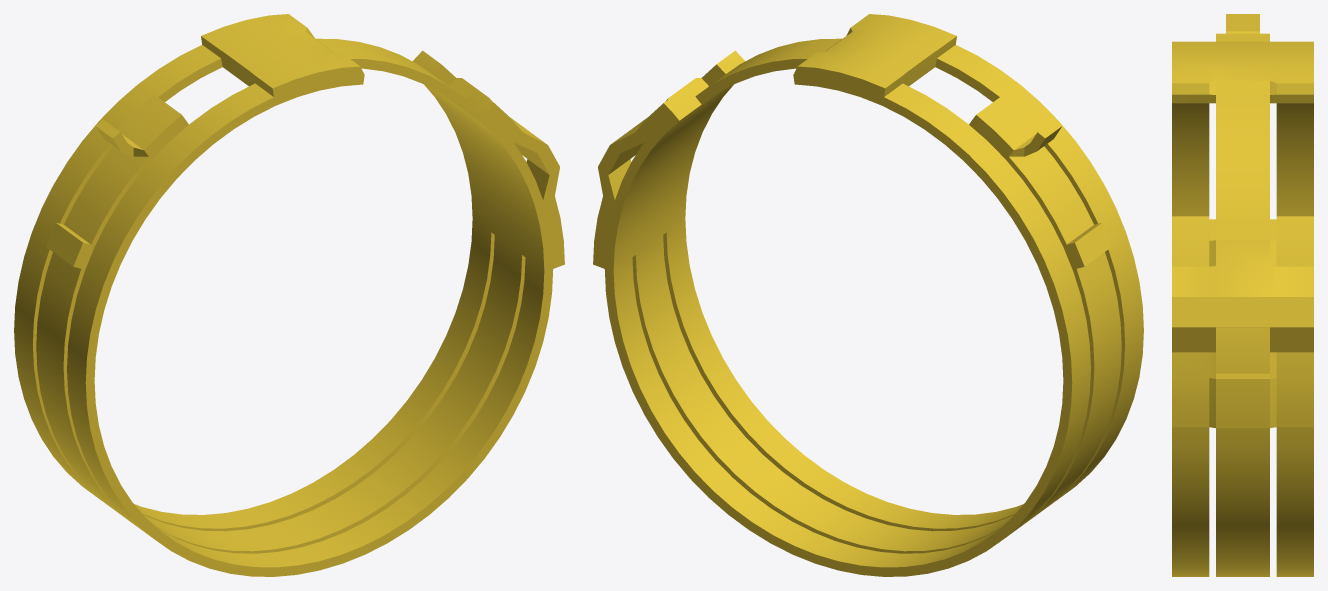
The picture shows the model from 3 angles, left to right: view 1: azimuth 30°, elevation 25°; view 2: azimuth 150°, elevation 25°; view 3: azimuth 270°, elevation 25°; orthographic projection.
Visible parts, largest first — view 1: 615; view 2: 615; view 3: 615.
Part boxes in pixels (x1=…): 615: x1=14, y1=14, x2=564, y2=576; 615: x1=593, y1=14, x2=1143, y2=576; 615: x1=1172, y1=14, x2=1313, y2=576.
Size of the model in its own units: 1630 by 1610 by 420.
